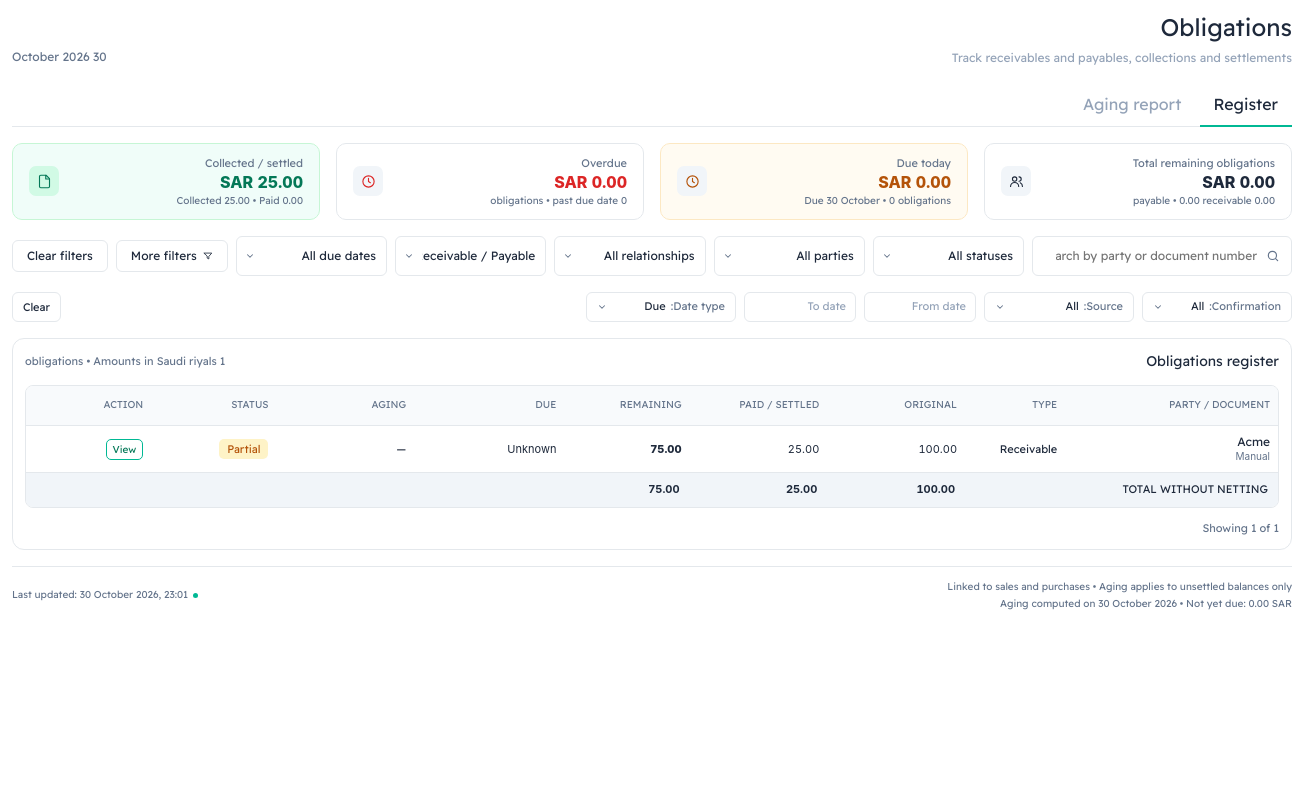
Test: Obligations workspace › shows real settlement history and removal only with settle capability
What coordinates should you click on to do the following:
click the cell "Acme Manual"
I would click on:
 (1172, 449)
Its box is [1065,426,1278,473].
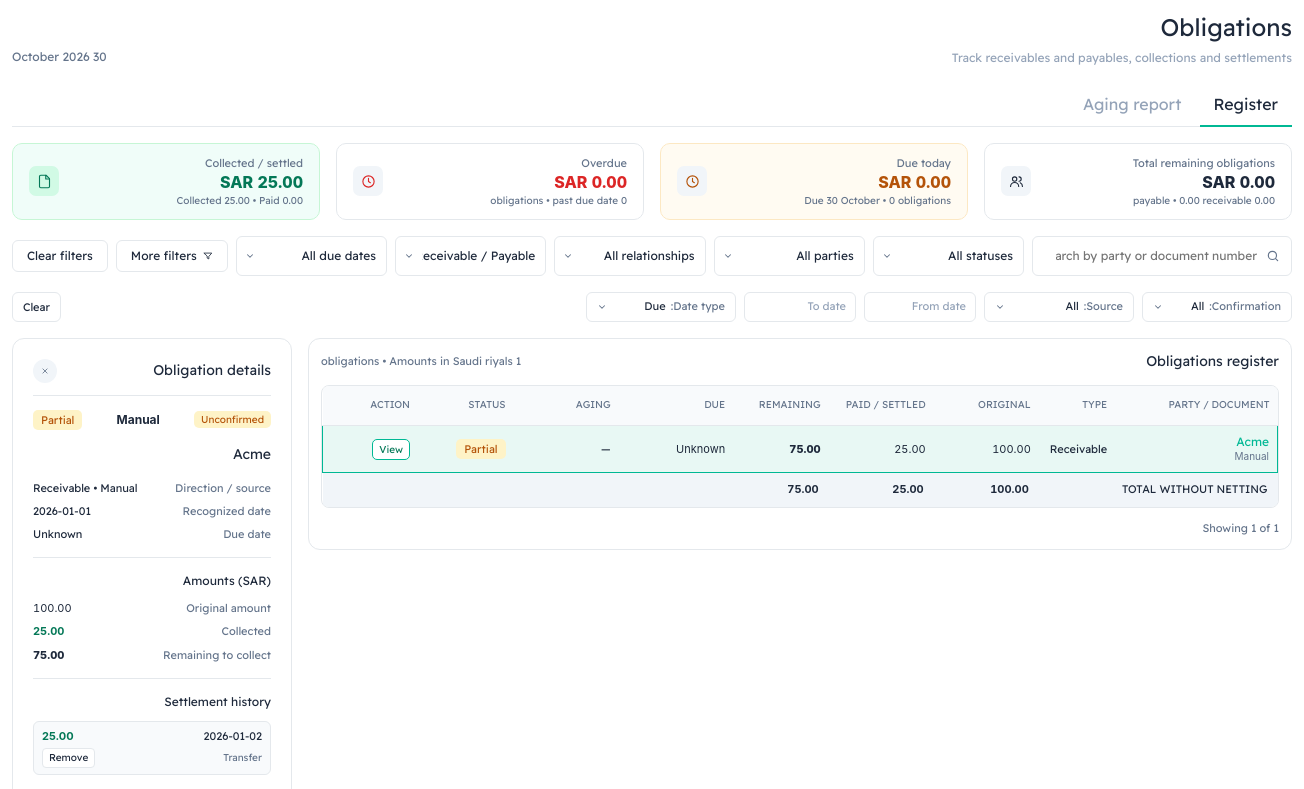
Expected: the text "2026-01-02" is shown, [204,728,262,745]
Expected: the text "25.00" next to "2026-01-02" is shown, [42,729,74,743]
Expected: the button "Remove" is shown, [42,748,95,768]
